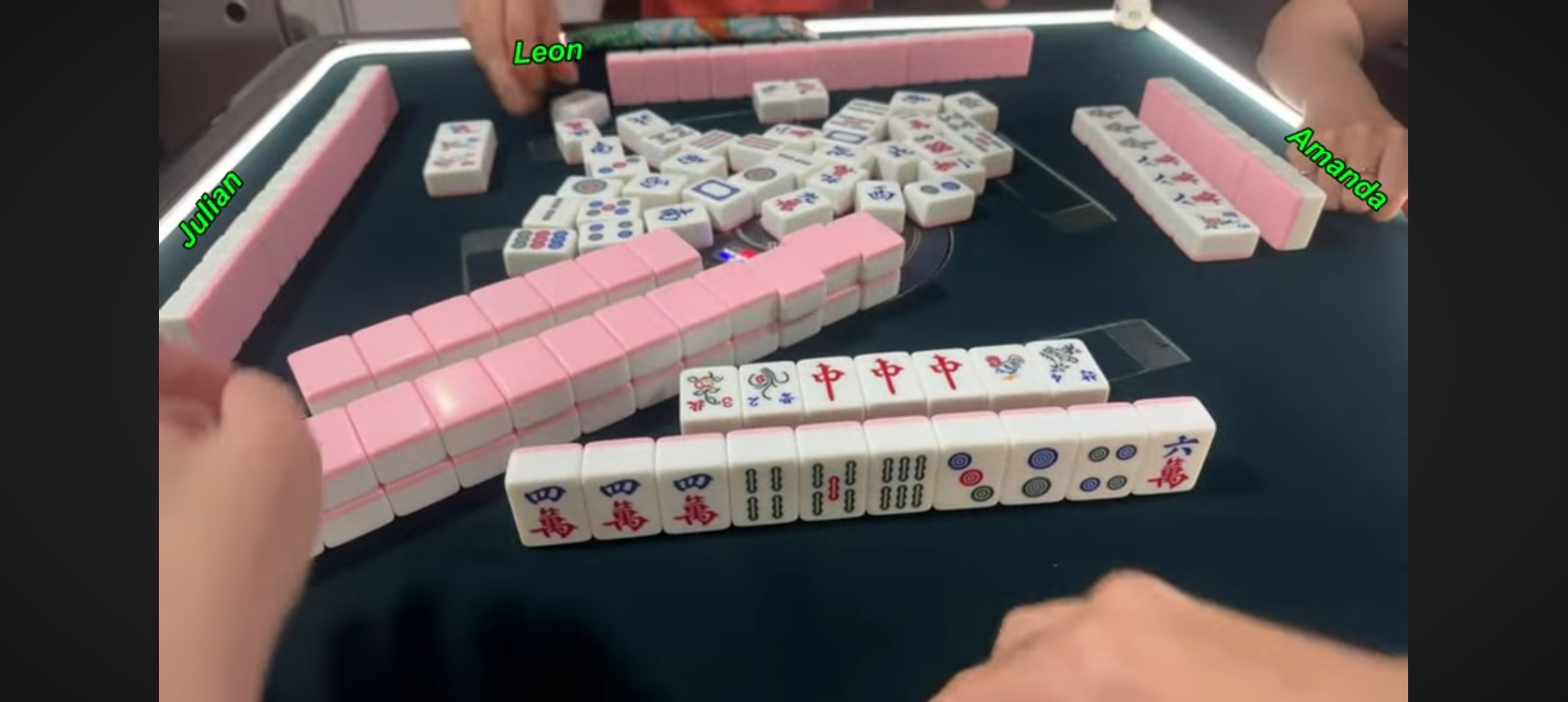TILE: (509, 477, 585, 549), (1028, 339, 1113, 396), (586, 472, 656, 540), (800, 454, 870, 522), (1070, 437, 1146, 499), (729, 460, 800, 526), (661, 468, 730, 533), (1003, 443, 1077, 503), (1142, 431, 1215, 491), (871, 450, 937, 515), (938, 446, 1006, 508), (799, 359, 870, 411), (967, 344, 1036, 396), (856, 354, 922, 408), (739, 363, 806, 416), (679, 367, 744, 420), (914, 351, 978, 403)
